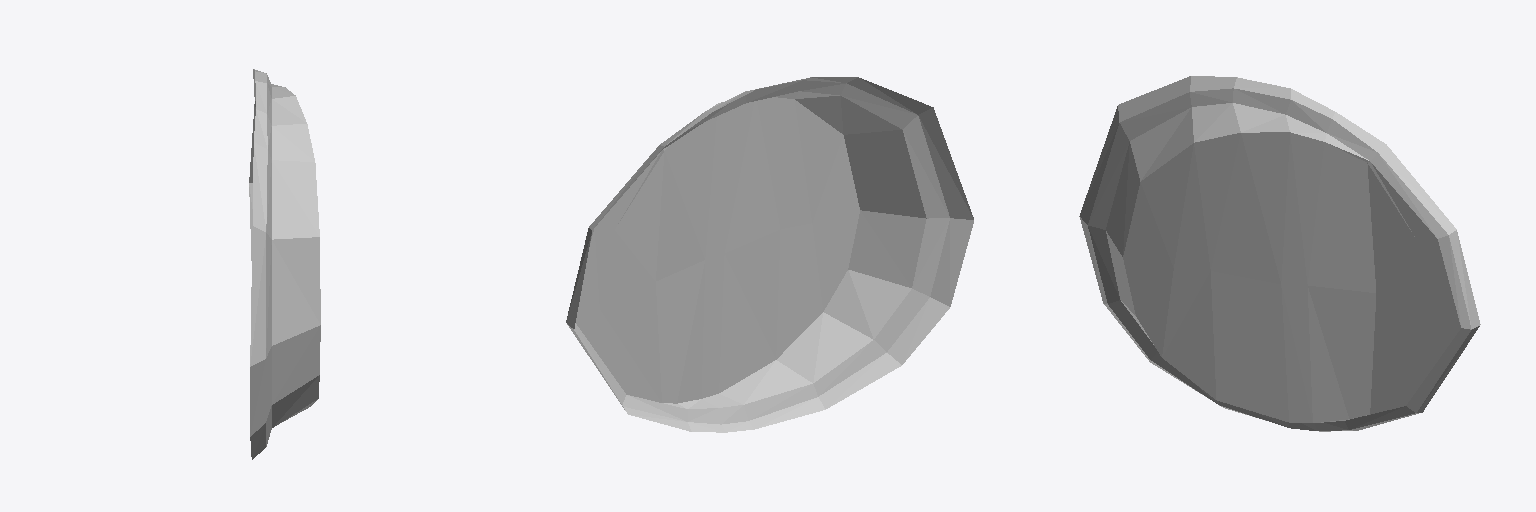
The model's file is LShoulderRoll_shiny.obj.
3 views of the same model, side by side, from view 1: azimuth 30°, elevation 25°; view 2: azimuth 150°, elevation 25°; view 3: azimuth 270°, elevation 25° (orthographic).
Parts seen in each view (by area): view 1: LShoulderRoll_shiny.001; view 2: LShoulderRoll_shiny.001; view 3: LShoulderRoll_shiny.001.
Part boxes in pixels (x1,y1,x2,y2): LShoulderRoll_shiny.001: (249,69,320,459); LShoulderRoll_shiny.001: (566,77,973,432); LShoulderRoll_shiny.001: (1079,76,1480,431).
Size of the model in its own units: 0.4672 by 0.7145 by 0.7646.